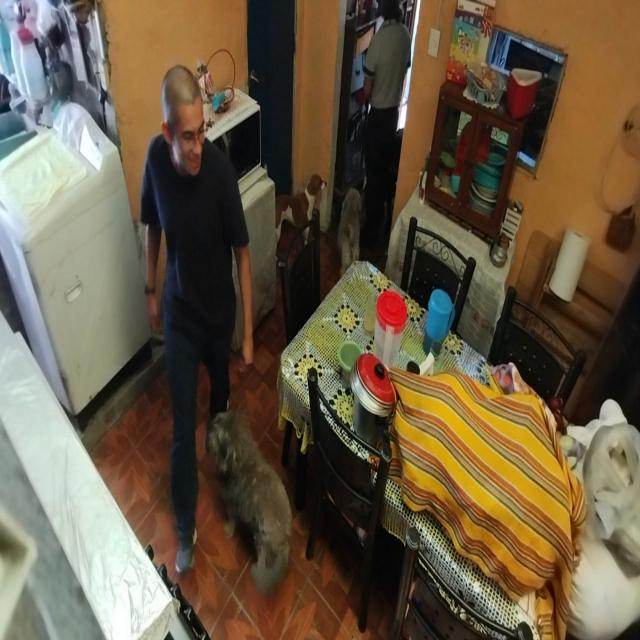adult: (143, 55, 258, 581)
